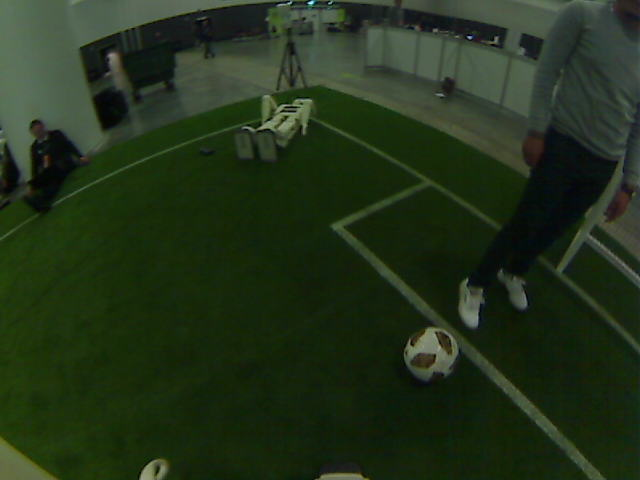ball: (412, 333, 452, 373)
goalpost: (544, 216, 584, 276)
robot: (239, 122, 275, 160)
